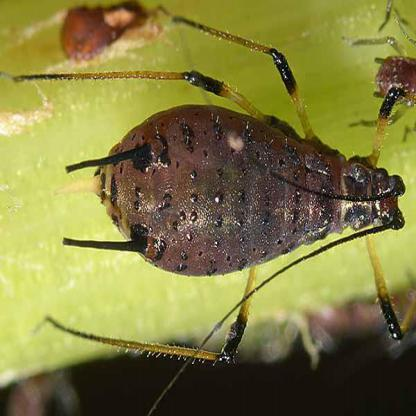uroleucon compositae: (54, 50, 405, 363)
